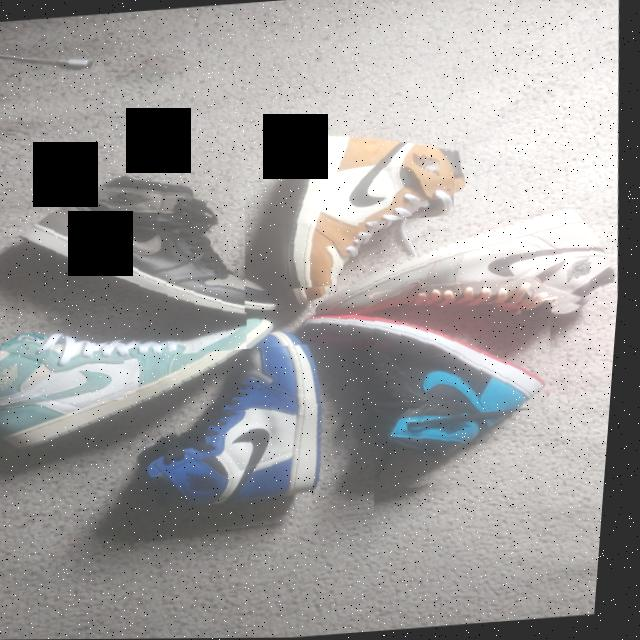shoe: (119, 339, 393, 542), (301, 300, 569, 501), (2, 152, 259, 337), (355, 203, 628, 329), (274, 125, 466, 290), (0, 306, 257, 410)
